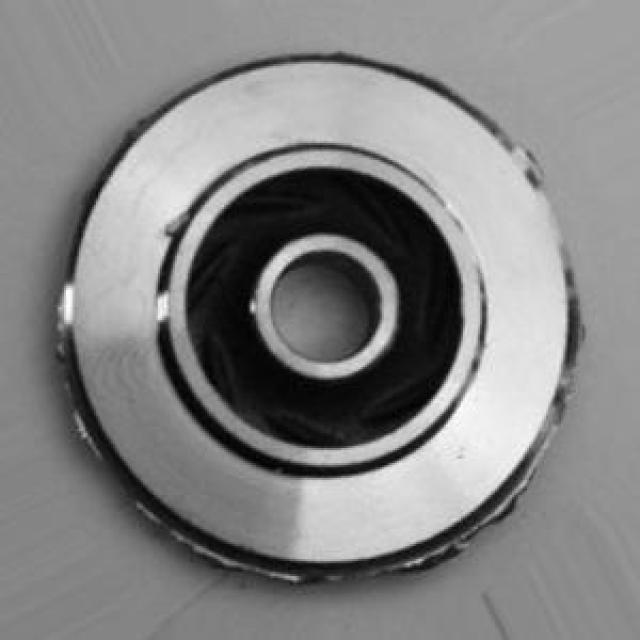Defect: (143, 203, 204, 246)
